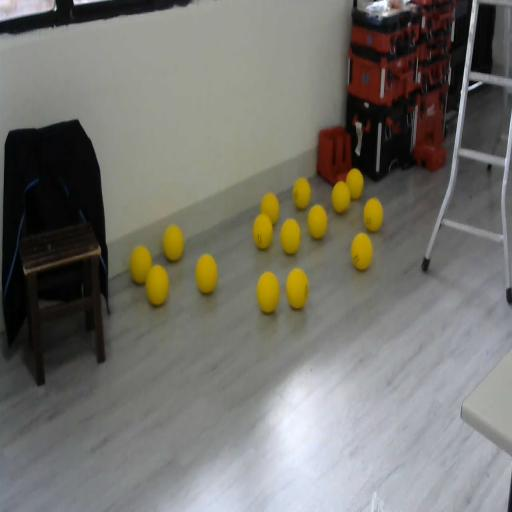FUEL: (144, 262, 170, 306), (256, 270, 280, 314), (285, 267, 309, 310), (195, 253, 218, 295), (350, 232, 374, 271), (129, 245, 152, 284), (162, 224, 184, 262), (306, 203, 328, 240), (280, 217, 300, 254), (363, 197, 383, 232), (260, 192, 280, 226), (292, 176, 312, 209), (332, 181, 350, 214), (346, 168, 364, 199)
